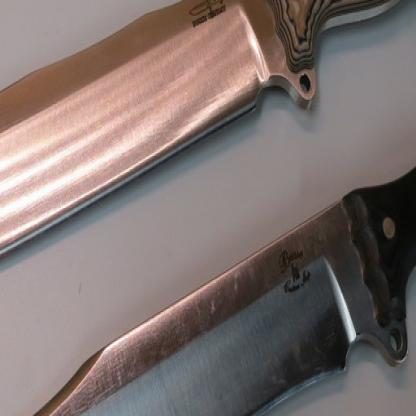knife: (0, 122, 415, 414), (0, 0, 415, 286)
